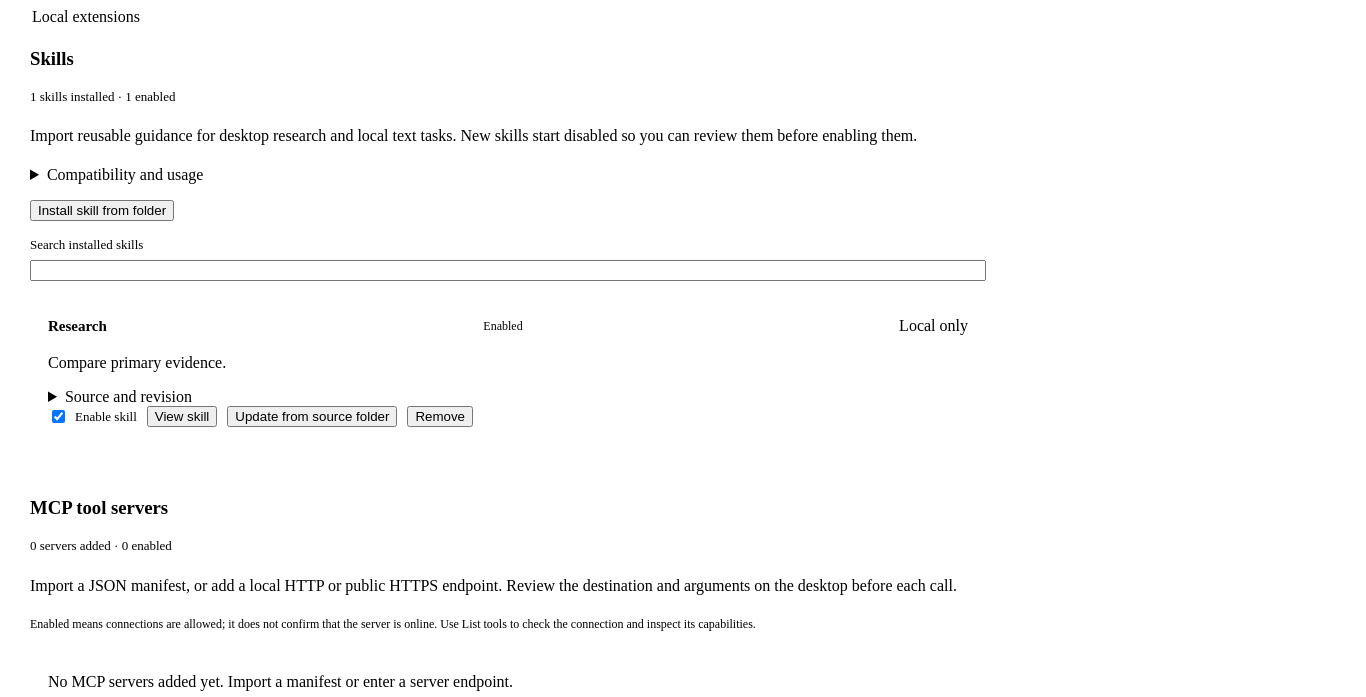
Scenario: shows management metadata without reading or running the skill body automatically
Expected: the text "Compare primary evidence." is shown, x1=48 y1=354 x2=226 y2=371
Click the heading "Source and revision": (128, 397) x1=65 y1=388 x2=192 y2=405
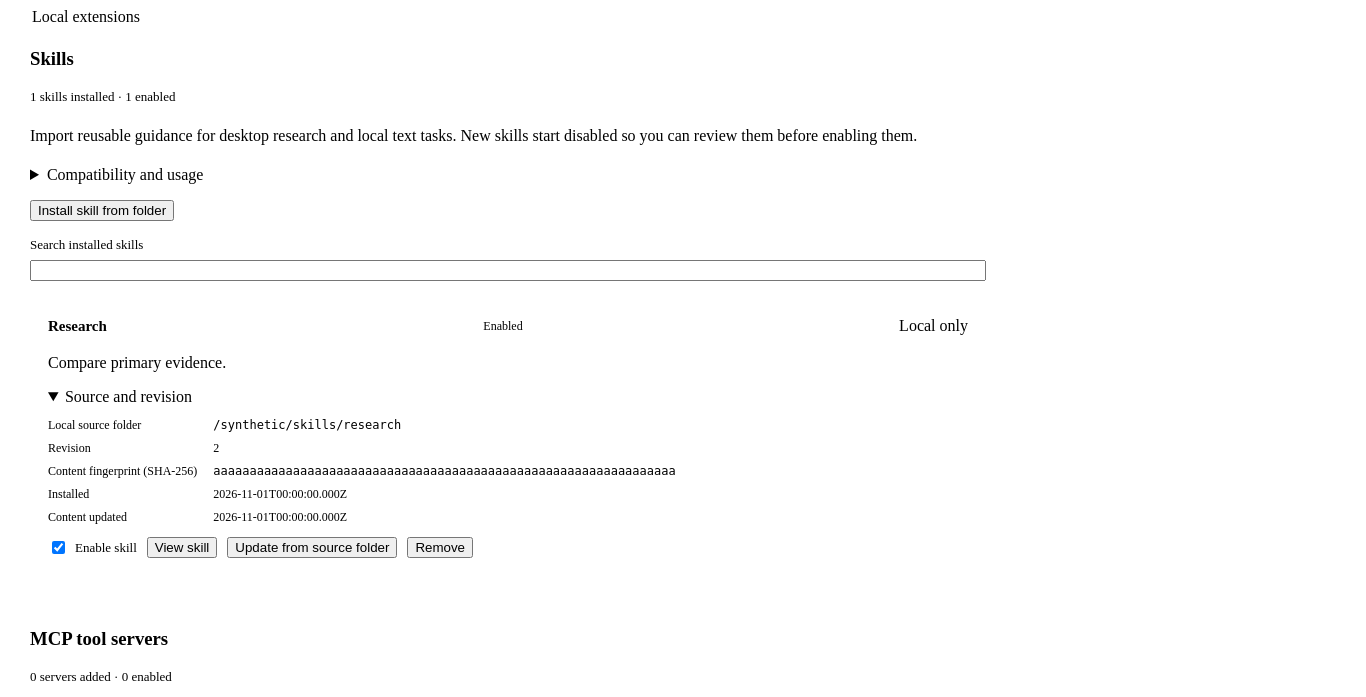
Now the text "/synthetic/skills/research" is shown, box x1=213 y1=418 x2=401 y2=432
Now the text "2" is shown, box x1=213 y1=441 x2=219 y2=455
In the search field labelled "Search installed skills": (508, 270) x1=30 y1=260 x2=986 y2=281, type "primary"
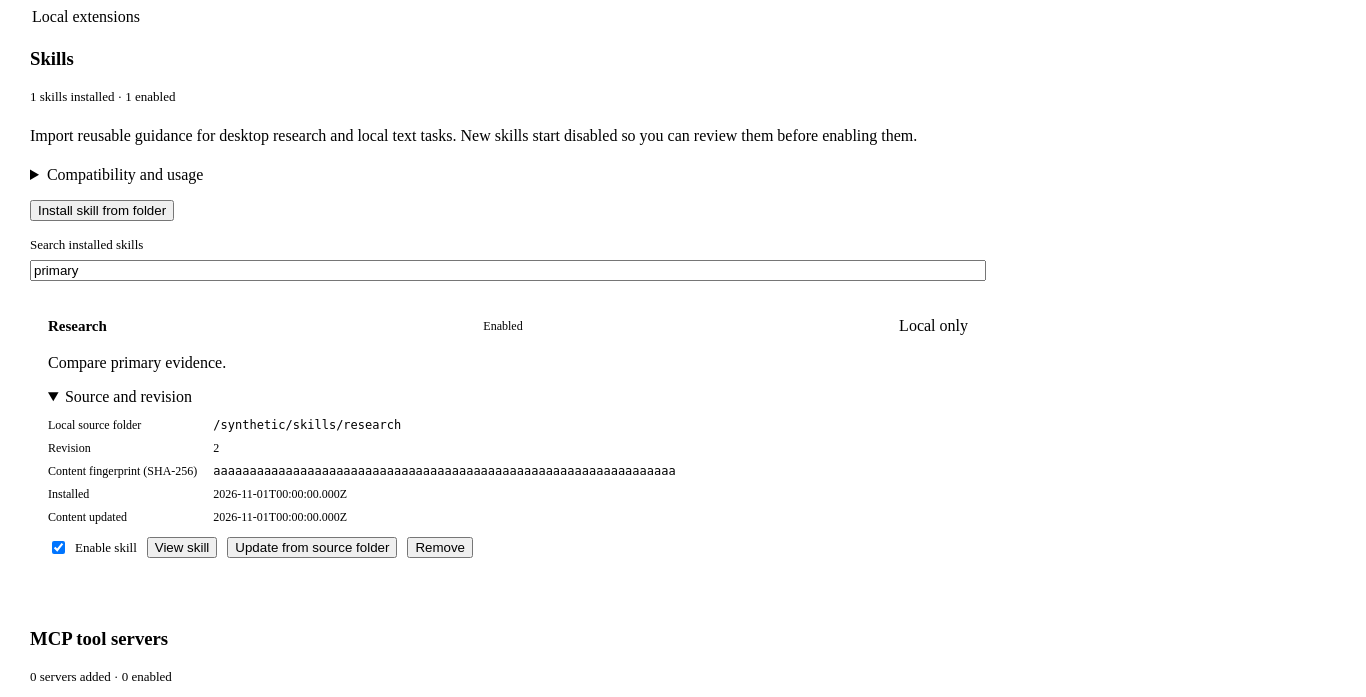
Expected: the element "Research" is shown, x1=30 y1=297 x2=986 y2=576
Click the button "View skill": (182, 548) x1=147 y1=537 x2=217 y2=558
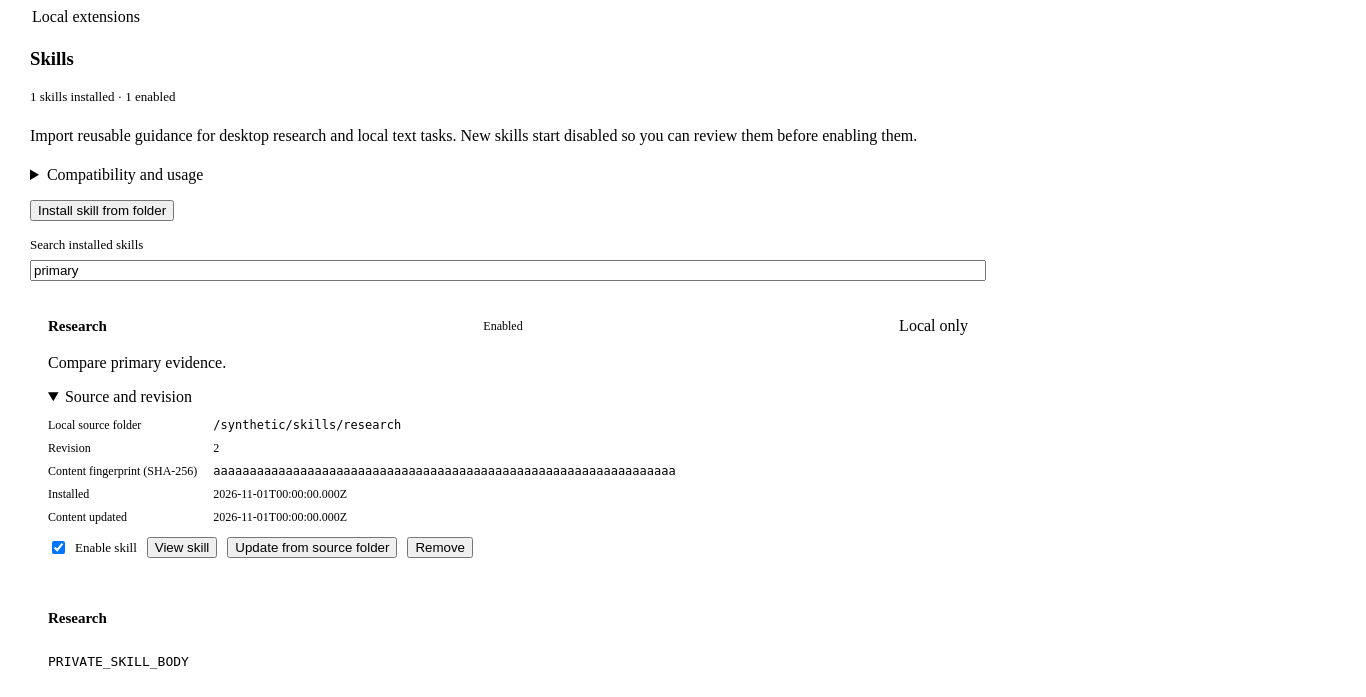
Now the text "PRIVATE_SKILL_BODY" is shown, box x1=48 y1=654 x2=189 y2=669
